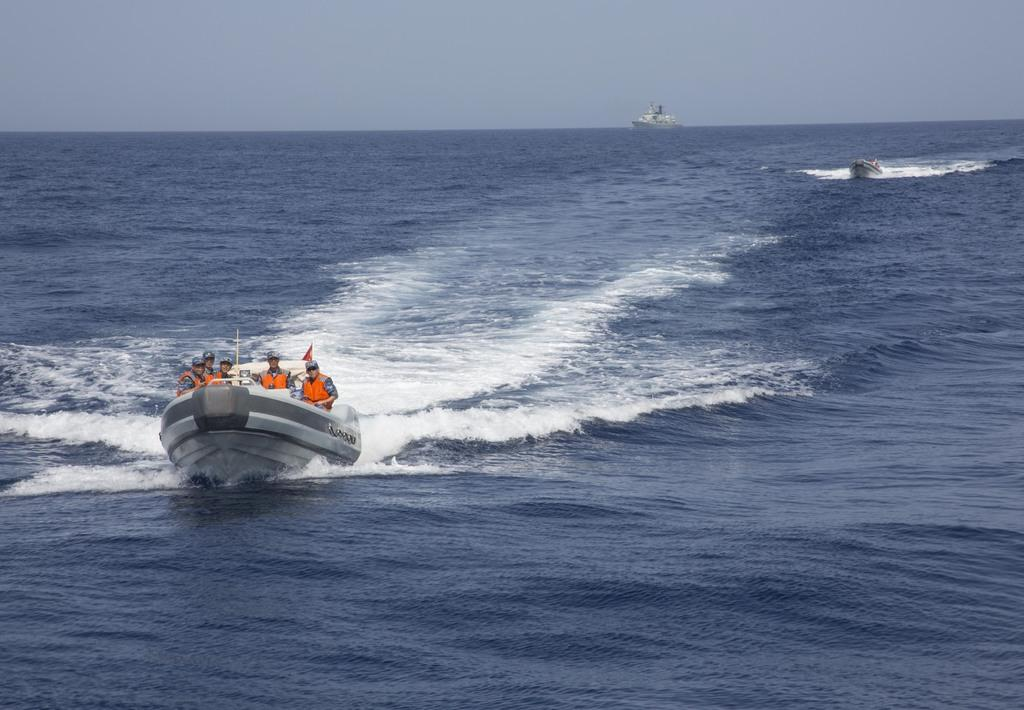Warship: (626, 99, 690, 135)
